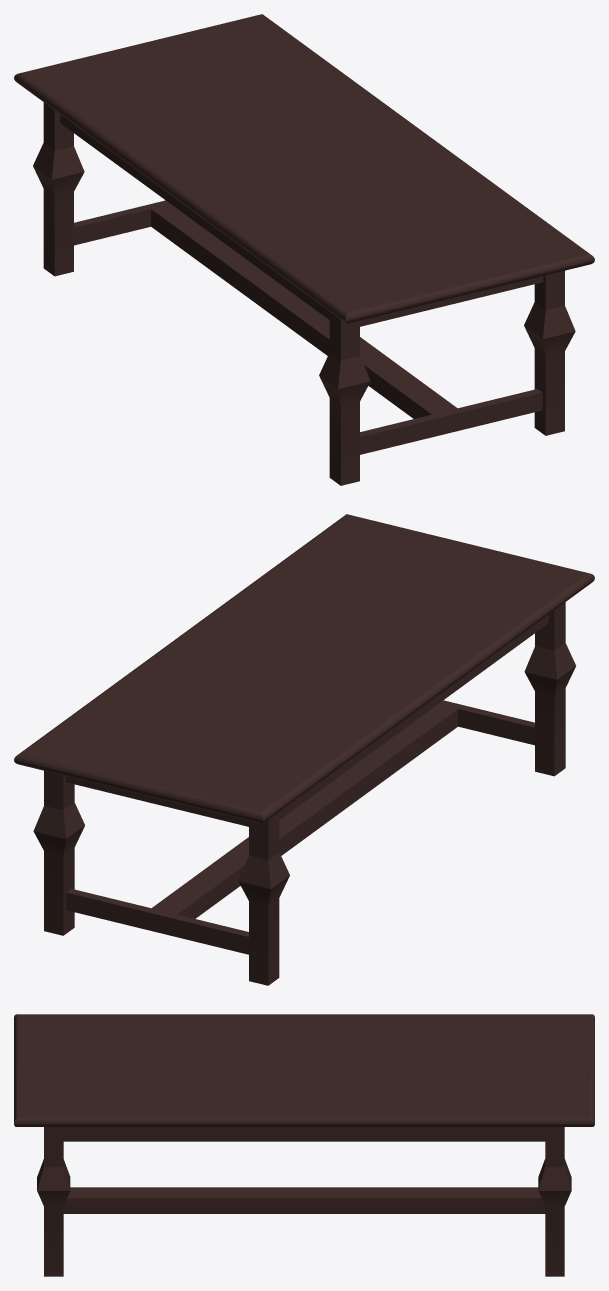
The model's file is GrandeTable_70.fbx.
The picture shows the model from 3 angles, top to bottom: view 1: azimuth 30°, elevation 25°; view 2: azimuth 150°, elevation 25°; view 3: azimuth 270°, elevation 25°; orthographic projection. The views are drawn at different scales.
Parts seen in each view (by area): view 1: pCube105, pCube107, polySurface28, polySurface29, polySurface31; view 2: pCube105, pCube107, polySurface29, polySurface28, polySurface30; view 3: pCube105, pCube107, polySurface31, polySurface30.
Boxes of the visible parts, x1=… form: pCube105: x1=14, y1=14, x2=594, y2=326; pCube107: x1=74, y1=200, x2=542, y2=454; polySurface28: x1=319, y1=312, x2=370, y2=485; polySurface29: x1=33, y1=102, x2=84, y2=276; polySurface31: x1=524, y1=270, x2=575, y2=435; pCube105: x1=14, y1=514, x2=594, y2=826; pCube107: x1=66, y1=700, x2=534, y2=954; polySurface29: x1=238, y1=812, x2=289, y2=985; polySurface28: x1=524, y1=602, x2=575, y2=776; polySurface30: x1=33, y1=770, x2=84, y2=935; pCube105: x1=14, y1=1014, x2=594, y2=1141; pCube107: x1=63, y1=1187, x2=545, y2=1213; polySurface31: x1=37, y1=1127, x2=70, y2=1276; polySurface30: x1=538, y1=1127, x2=571, y2=1276.
Size of the model in its own units: 56.13 by 40.09 by 129.
